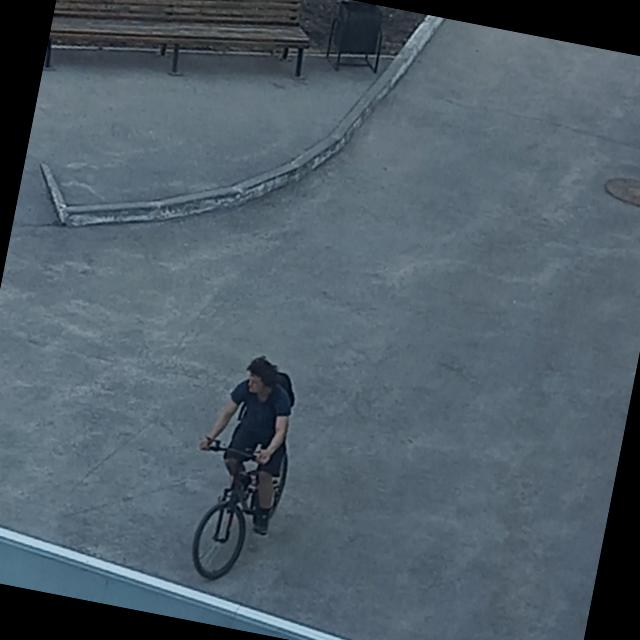person: (186, 348, 304, 536)
